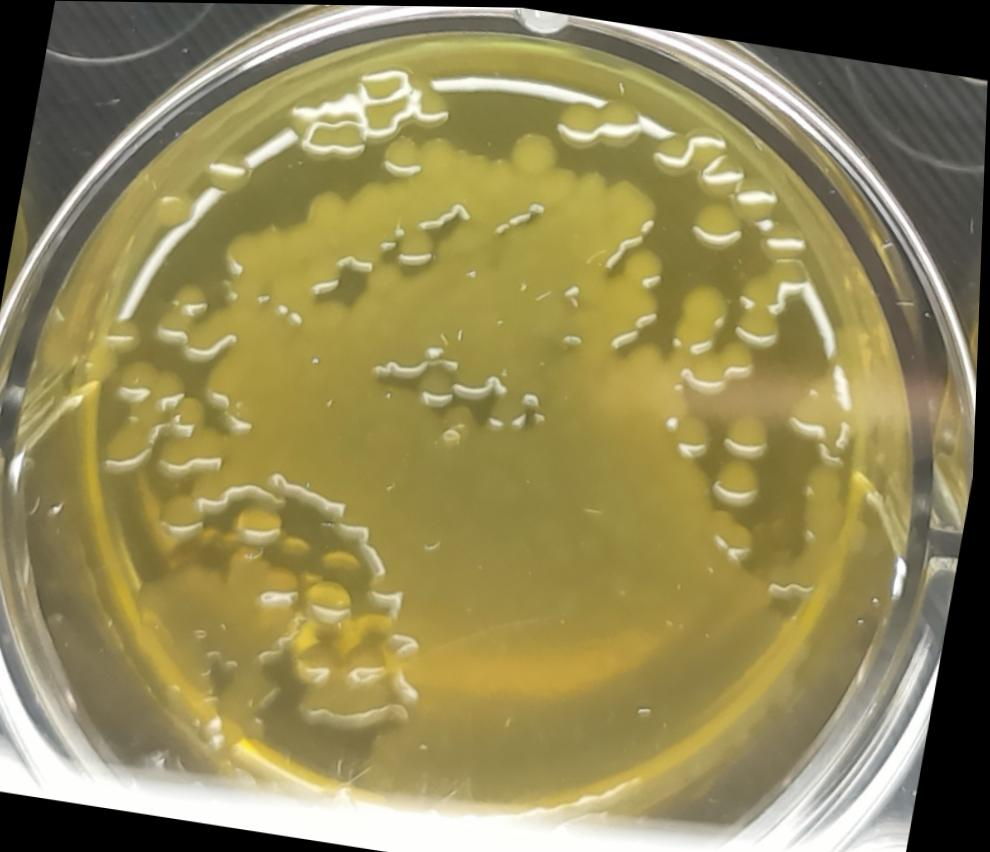vangil: (730, 248, 821, 355), (646, 116, 750, 198), (553, 83, 653, 164), (669, 267, 737, 362), (795, 456, 862, 551), (686, 331, 761, 398), (158, 418, 235, 481), (116, 355, 193, 413), (156, 276, 216, 350), (299, 111, 374, 167), (689, 195, 753, 260), (235, 491, 295, 555), (718, 407, 777, 466), (155, 486, 216, 542), (203, 142, 262, 198), (304, 574, 362, 629), (713, 455, 768, 512), (755, 212, 813, 265), (377, 128, 430, 182), (731, 170, 781, 225), (509, 125, 562, 173), (417, 360, 466, 409), (488, 389, 536, 438), (395, 219, 440, 271), (624, 242, 672, 290), (672, 409, 718, 458)
